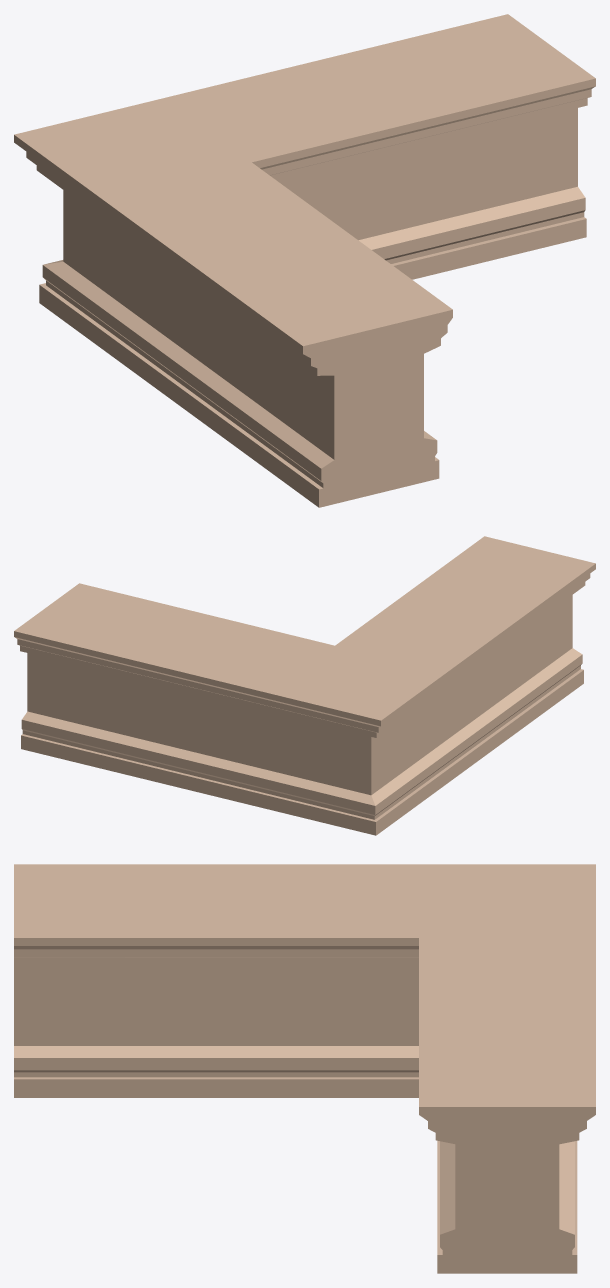
File: BC_Frame_C_03.fbx
3 renders of one model, top to bottom at view 1: azimuth 30°, elevation 25°; view 2: azimuth 150°, elevation 25°; view 3: azimuth 270°, elevation 25°, orthographic. The views are drawn at different scales.
Parts seen in each view (by area): view 1: BC_Frame_C_03; view 2: BC_Frame_C_03; view 3: BC_Frame_C_03.
Part boxes in pixels (left/top/right/bottom): BC_Frame_C_03: left=14, top=14, right=595, bottom=507; BC_Frame_C_03: left=14, top=536, right=595, bottom=835; BC_Frame_C_03: left=14, top=864, right=595, bottom=1273.
Size of the model in its own units: 474 by 152 by 481.
